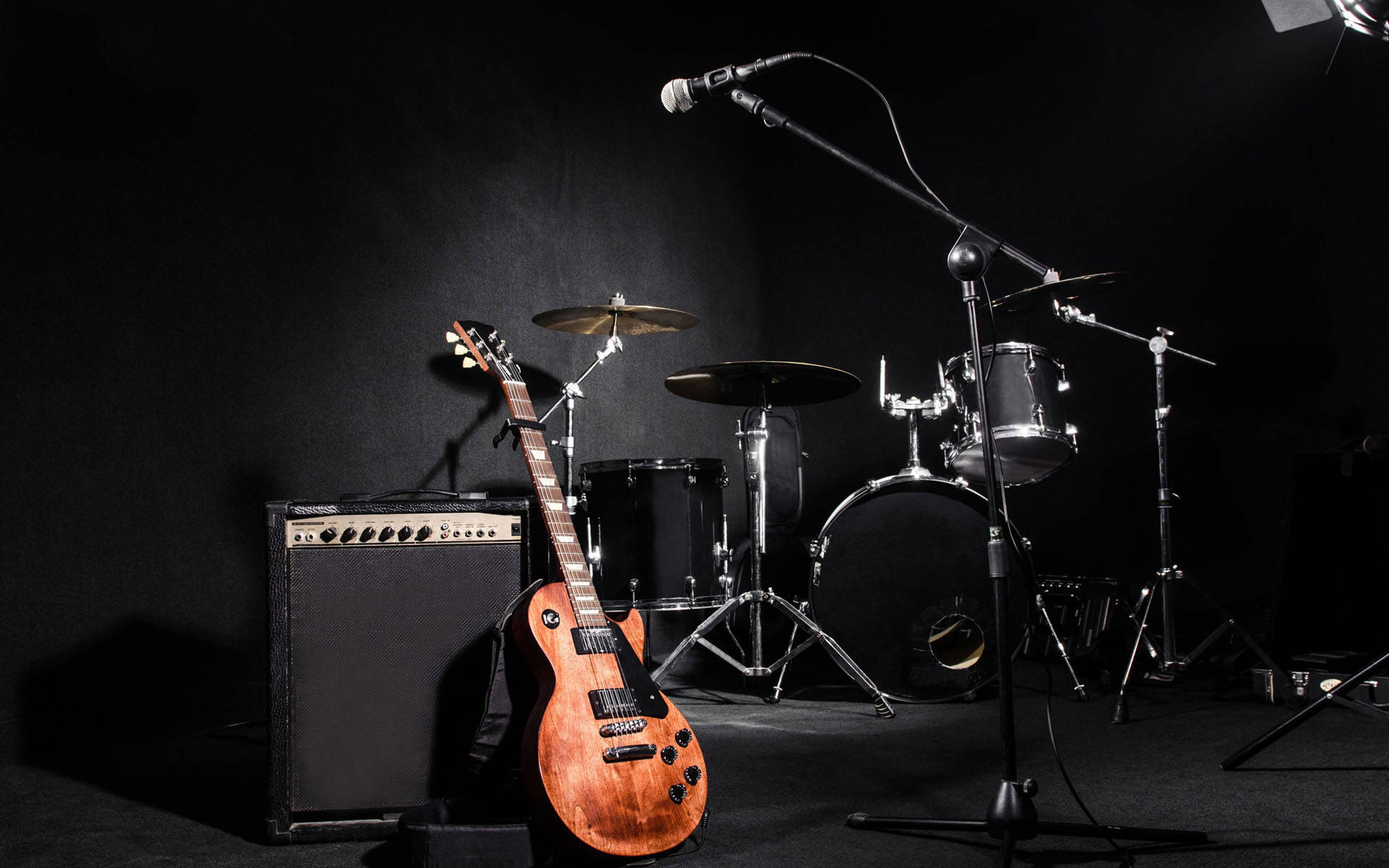acousticguitar: (445, 323, 711, 858)
